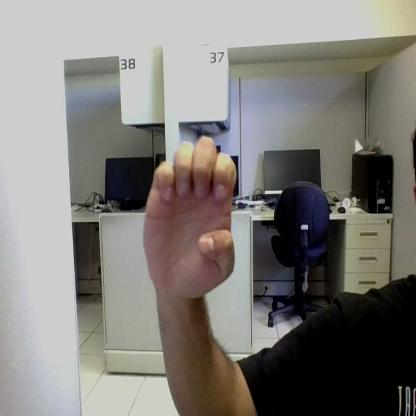E: (144, 136, 235, 297)
